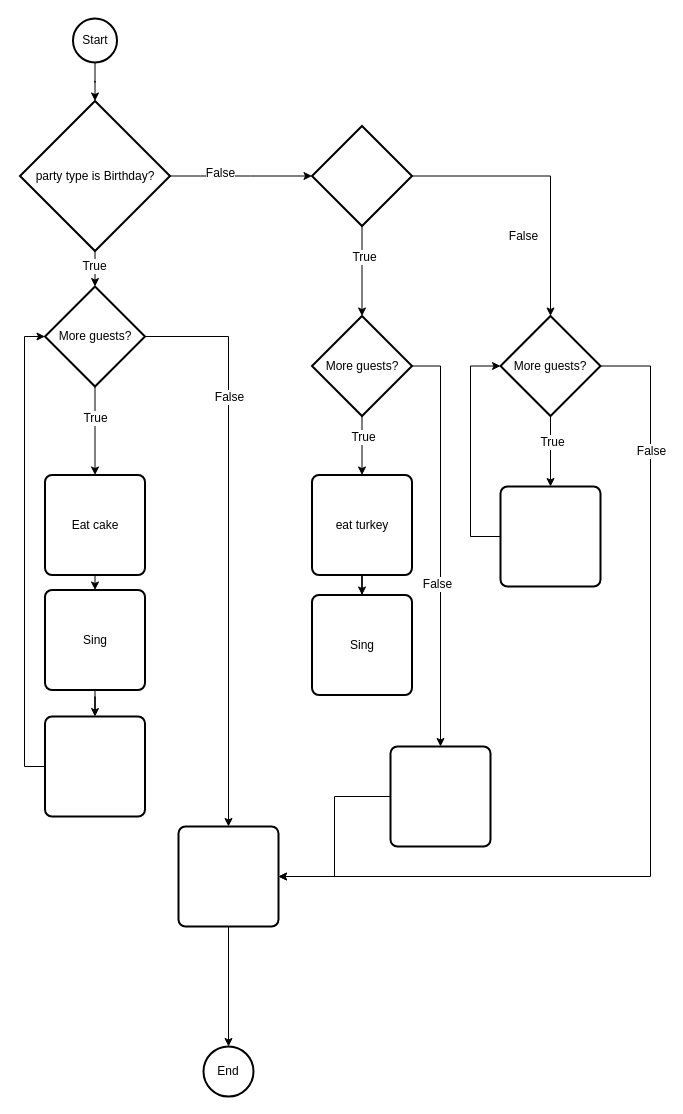
The diagram is 683 pixels wide and 1114 high, and some of its shapes have lost their labels. The centre of each missing label's shape, as x and y in pixels:
have drinks: [550,536]
party type is Christmas?: [361,175]
Print "Happy Birthday!": [95,766]
Print "It's my party I can cry if I want to": [228,876]
Print "Santa's watching": [440,796]
